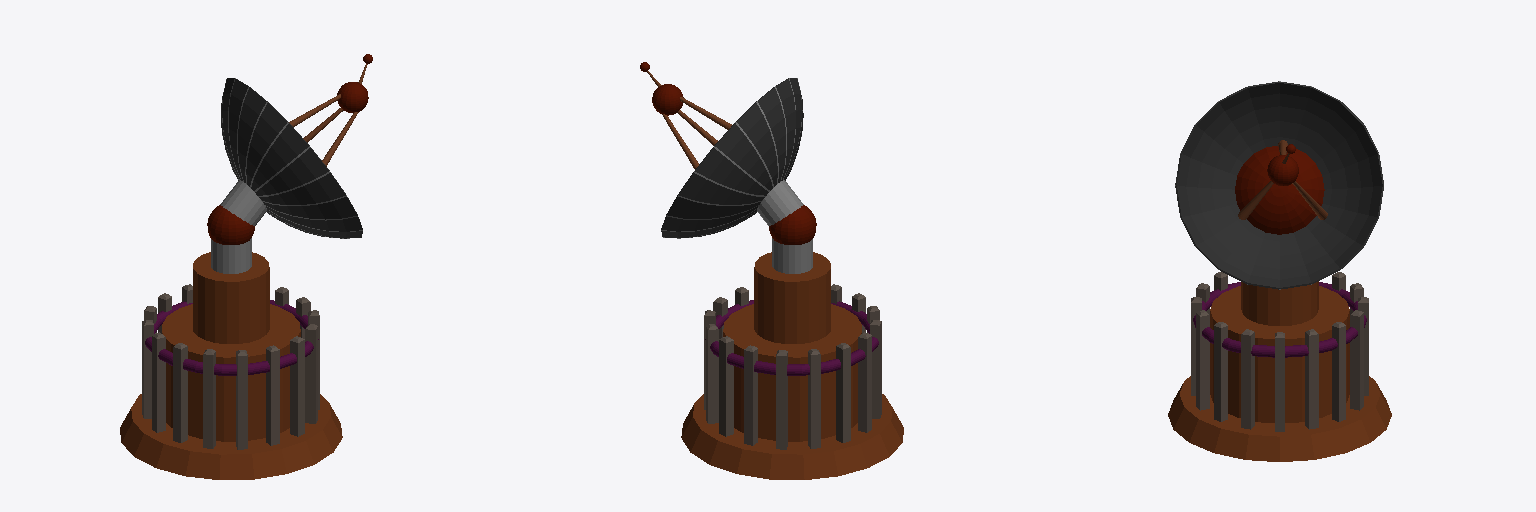
The model's file is satellite.obj.
The picture shows the model from 3 angles: view 1: azimuth 30°, elevation 25°; view 2: azimuth 150°, elevation 25°; view 3: azimuth 270°, elevation 25°; orthographic projection.
Visible parts, largest first — view 1: pCylinder9; view 2: pCylinder9; view 3: pCylinder9.
Boxes of the visible parts, x1=… form: pCylinder9: x1=120, y1=54, x2=372, y2=479; pCylinder9: x1=640, y1=62, x2=903, y2=479; pCylinder9: x1=1168, y1=81, x2=1391, y2=461.
Size of the model in its own units: 5 by 6.7 by 3.98.